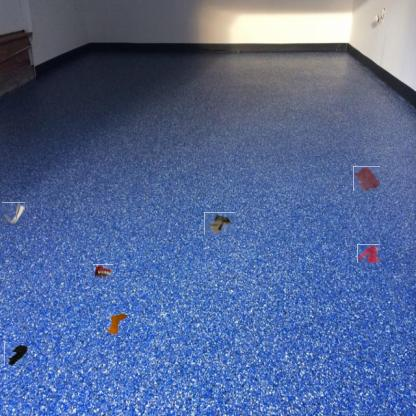dirty: (206, 210, 233, 237), (102, 312, 128, 337), (4, 342, 29, 366), (2, 202, 25, 226), (95, 263, 112, 281)
liquid: (353, 166, 380, 191), (357, 244, 380, 263)
